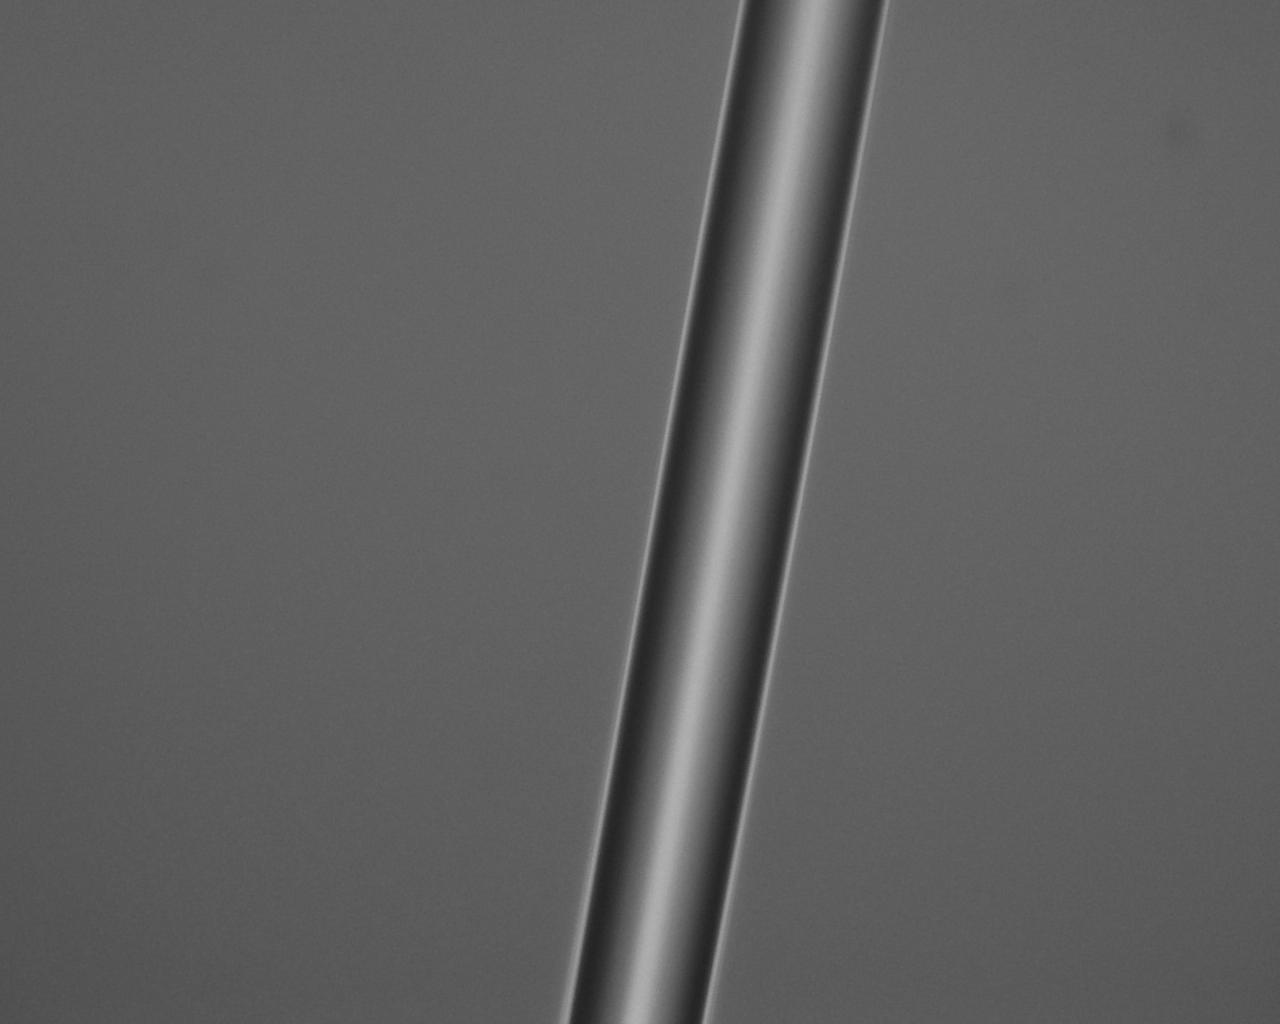fiber: (742, 0, 1280, 583), (847, 583, 982, 1024)
